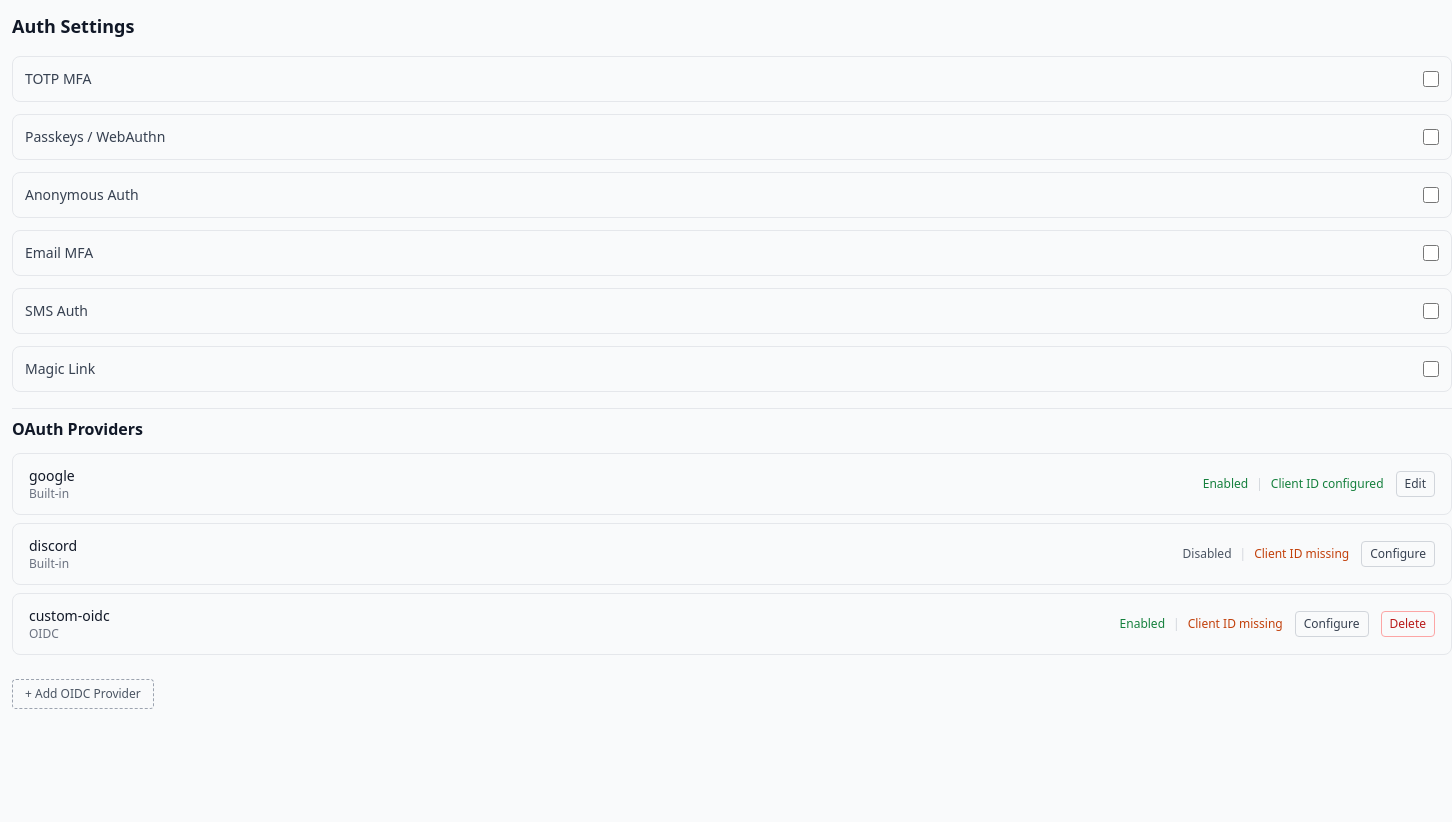
Scenario: AuthSettings › shows error feedback when update fails
The width and height of the screenshot is (1452, 822).
What coordinates should you click on to do the following:
click the checkbox with test id "toggle-totp_enabled"
I would click on:
 (1431, 79)
Its box is x1=1423 y1=71 x2=1439 y2=87.
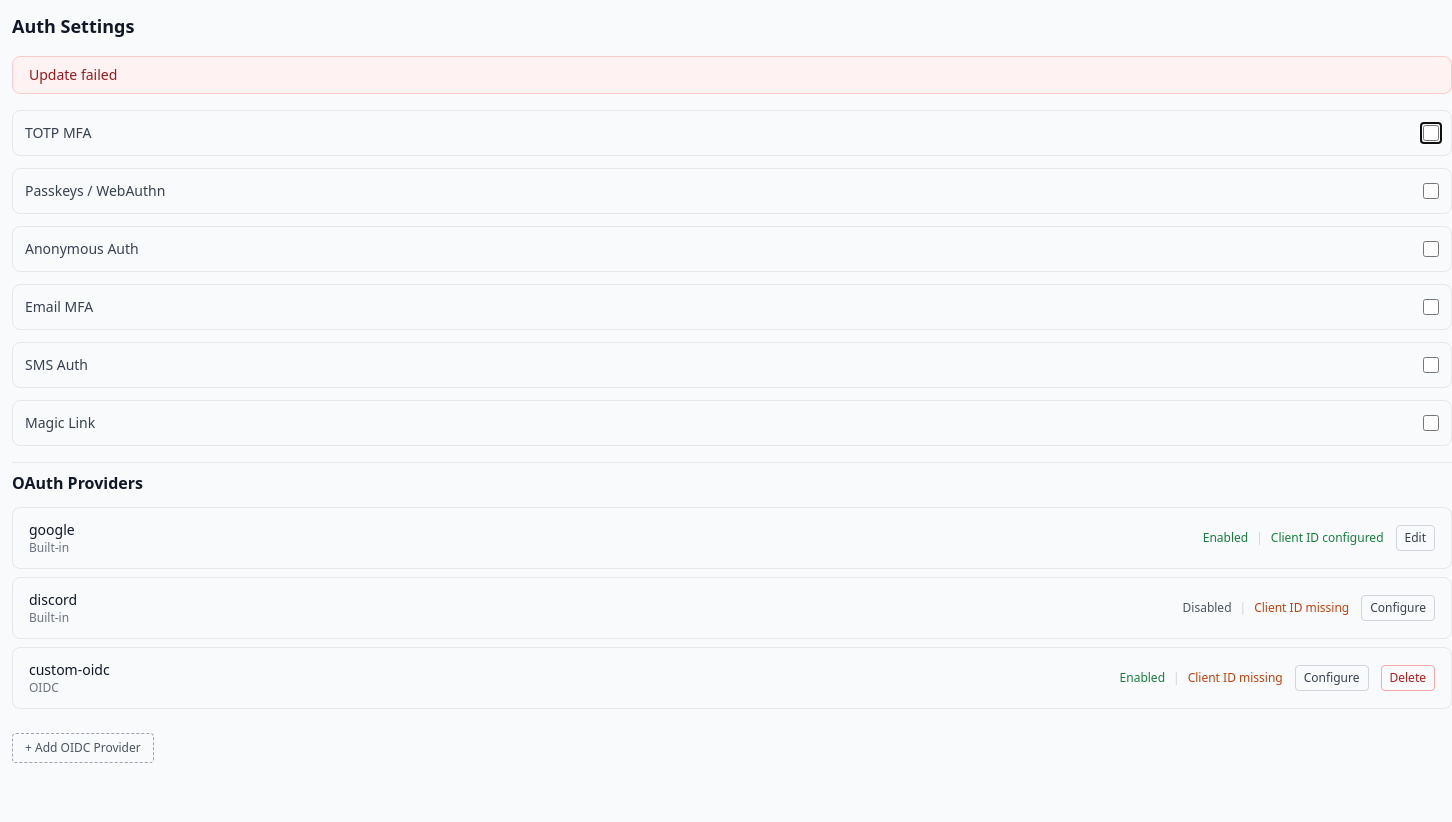
Expected: the text "Update failed" is shown, x1=12 y1=56 x2=1451 y2=94
